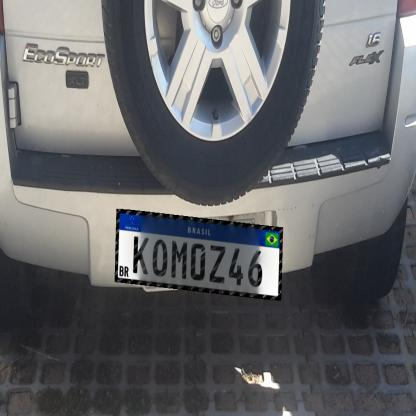PlacaM: (115, 209, 283, 301)
